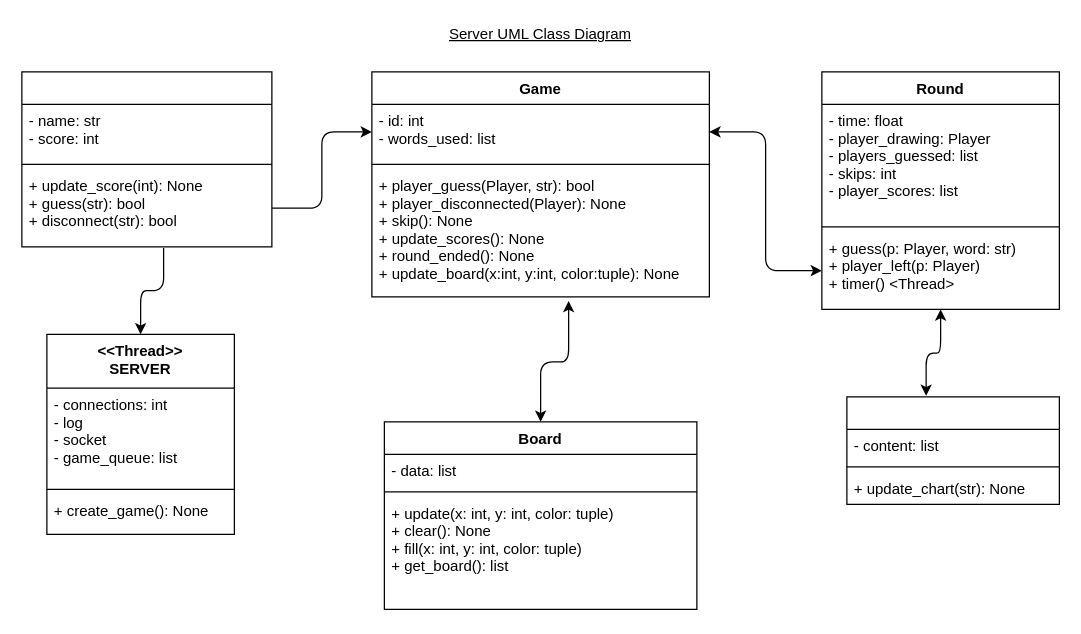
Some shapes in this 1081 by 634 pixel diagram are drawn without their labels. Each missing label, with the box of its shape:
Chat: (846, 396, 1059, 504)
Player: (21, 71, 272, 247)
